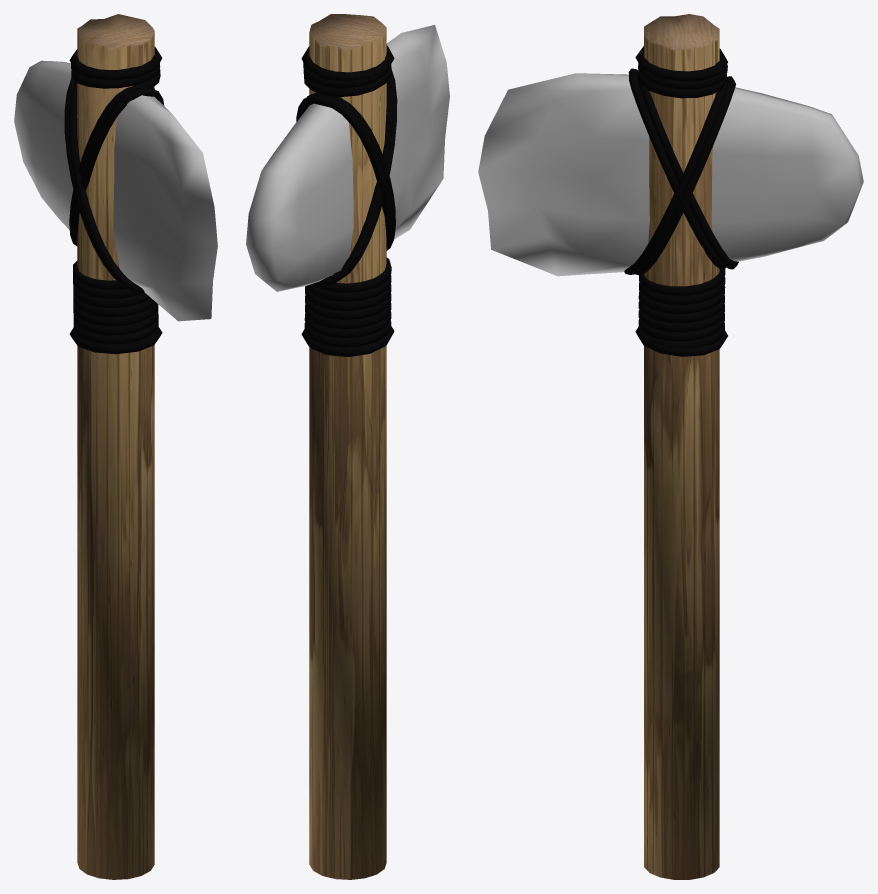
The model's file is StoneAxe.fbx.
The picture shows the model from 3 angles, left to right: view 1: azimuth 30°, elevation 25°; view 2: azimuth 150°, elevation 25°; view 3: azimuth 270°, elevation 25°; orthographic projection.
Parts seen in each view (by area): view 1: Cylinder; view 2: Cylinder; view 3: Cylinder.
Part boxes in pixels (x1,y1,x2,y2): Cylinder: (14, 14, 217, 879); Cylinder: (246, 14, 449, 879); Cylinder: (478, 14, 863, 879).
Size of the model in its own units: 16.34 by 157 by 65.79.
